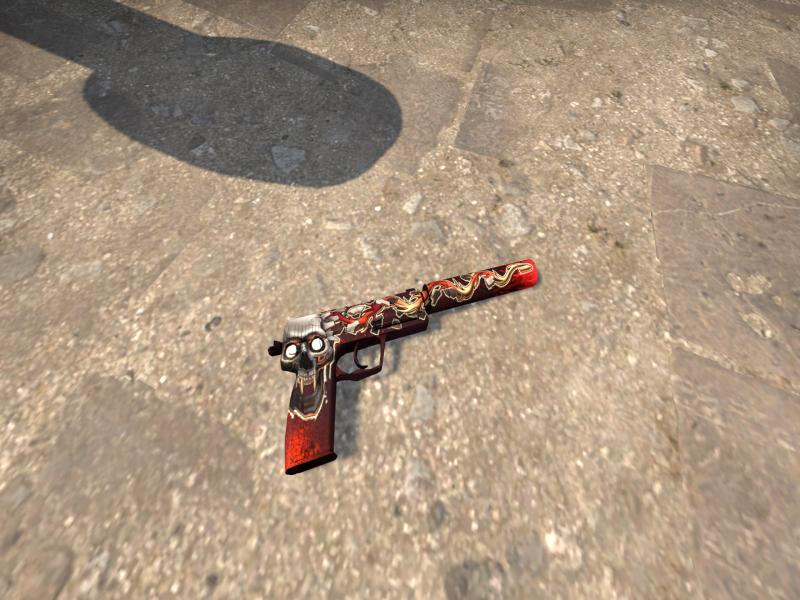USP: (269, 259, 538, 473)
